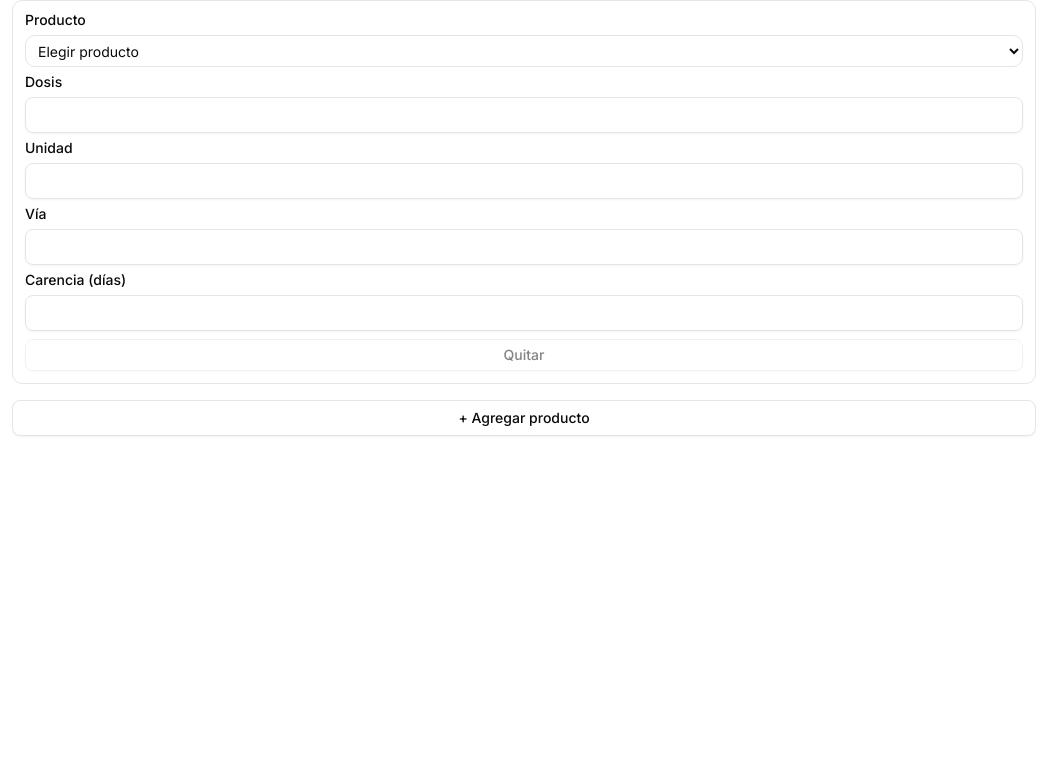
Test: ProductListEditor › shows an error message if creation fails, without losing the typed name
Select "+ Crear producto nuevo" in the dropdown labelled "Producto". click: [524, 51]
box: [25,35,1023,67]
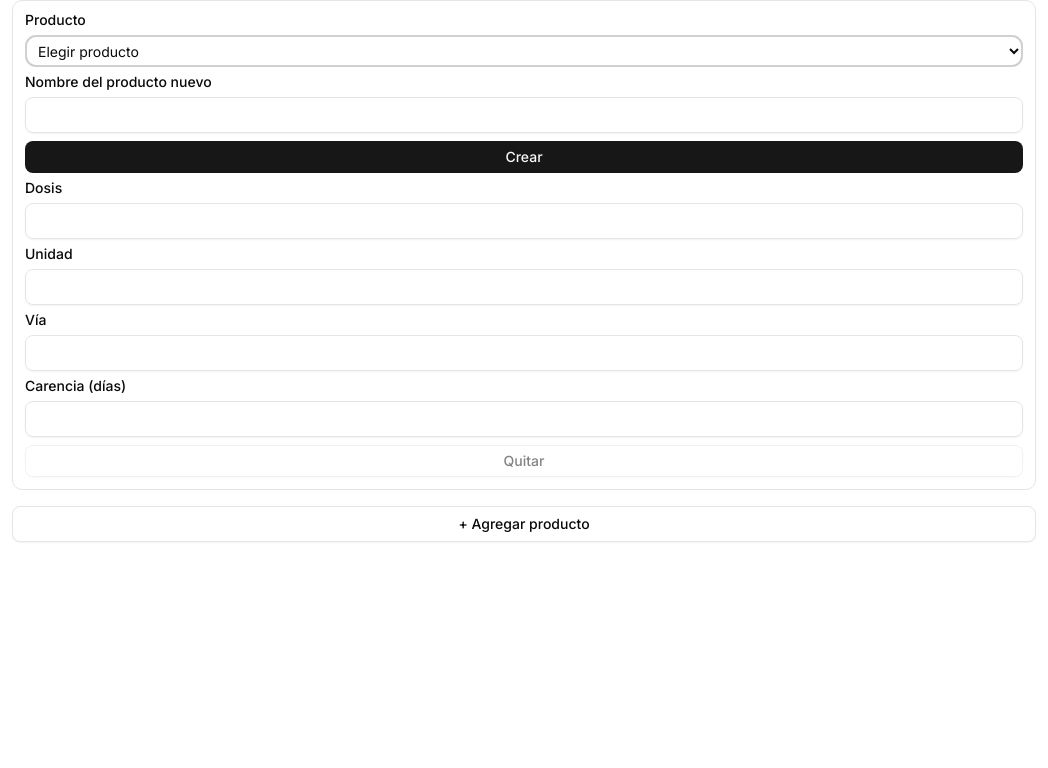
Type "Aftosa" into the field labelled "Nombre del producto nuevo". click: [524, 115]
box: [25,97,1023,133]
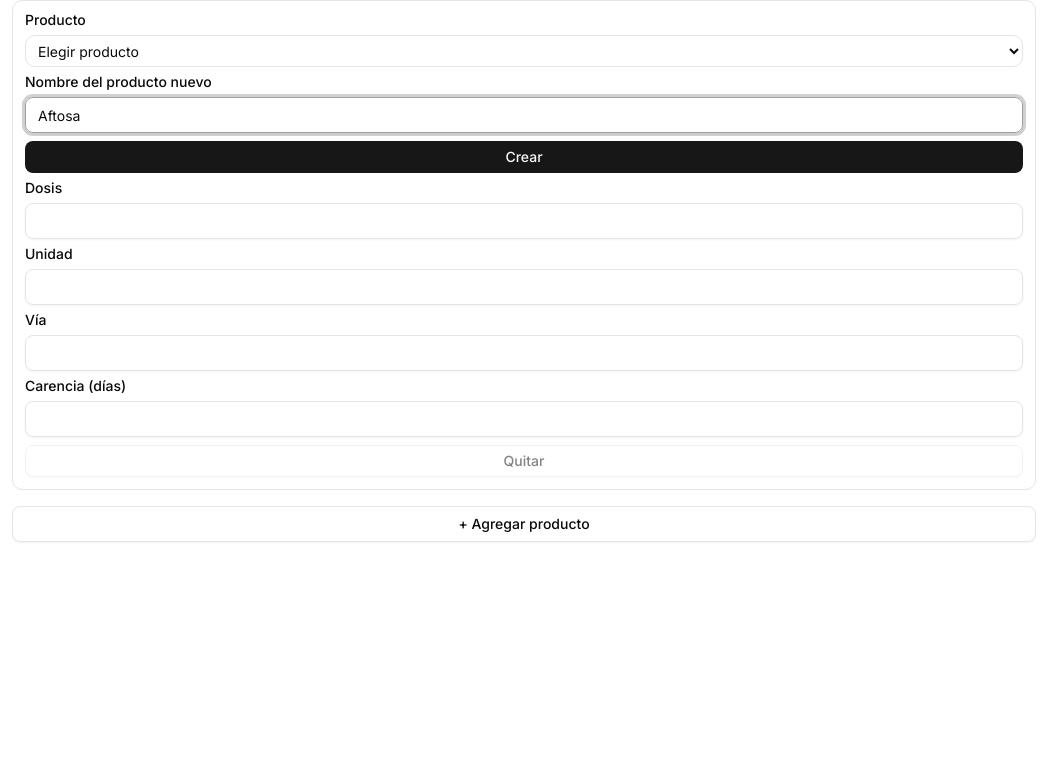
Click the button "Crear". click: [524, 157]
box: [25,141,1023,173]
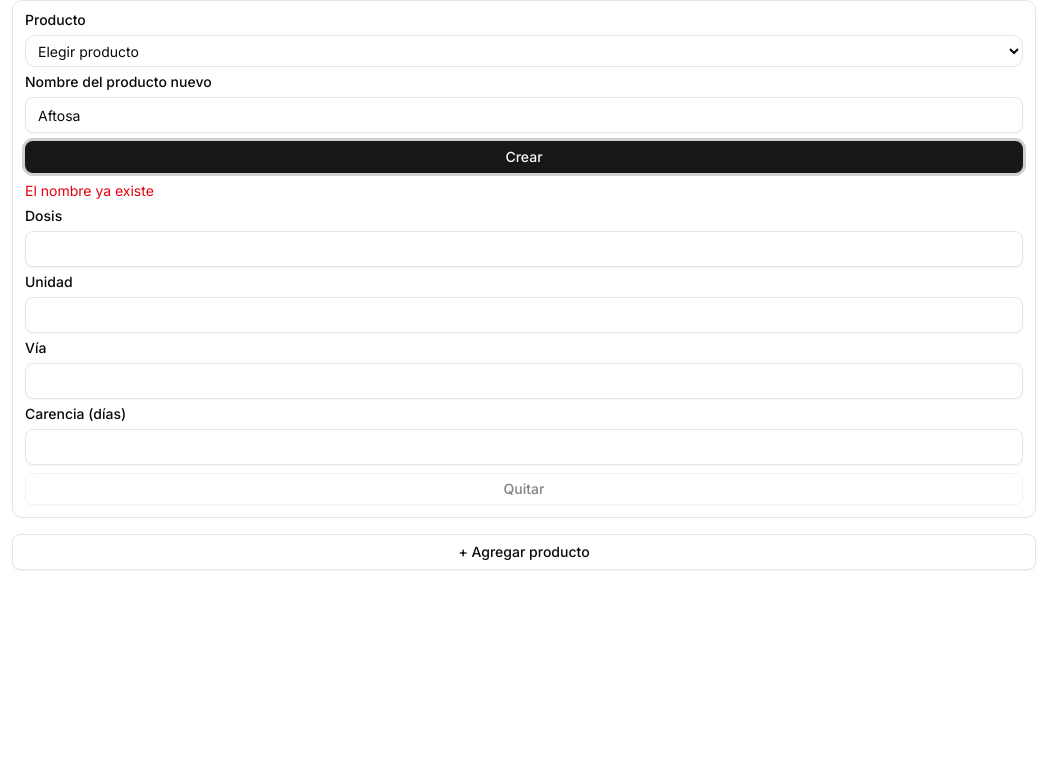
Expected: the text "El nombre ya existe" is shown, [25,182,154,199]
